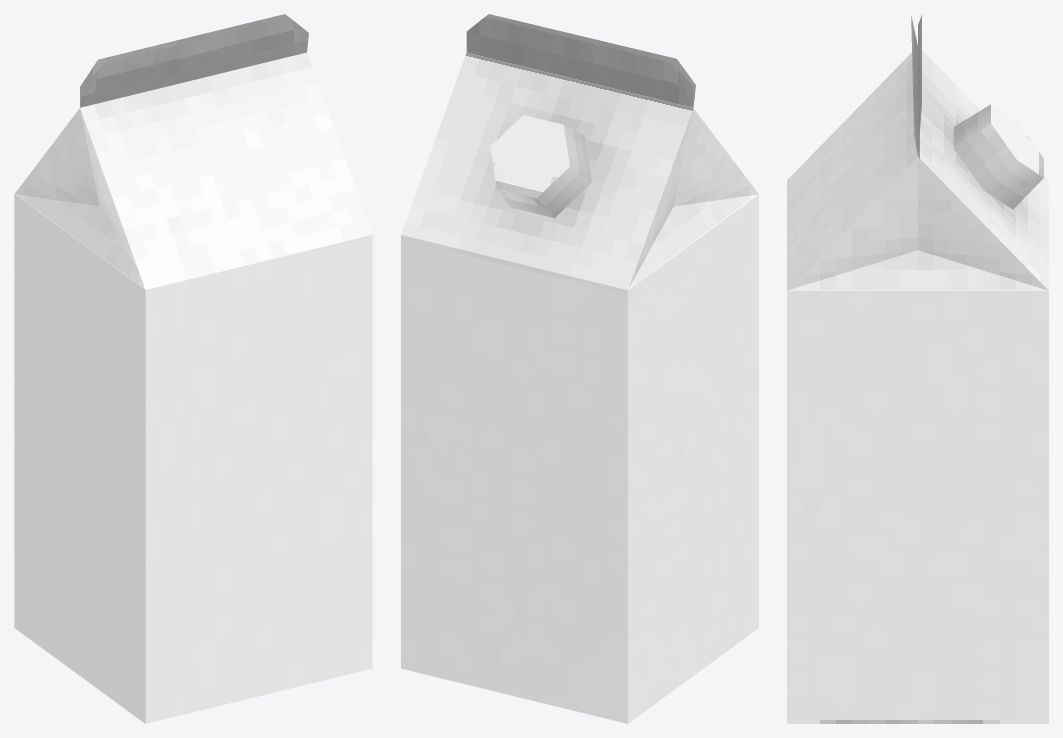
Rendered from Carton.glb.
3 renders of one model, left to right at view 1: azimuth 30°, elevation 25°; view 2: azimuth 150°, elevation 25°; view 3: azimuth 270°, elevation 25°, orthographic.
Parts seen in each view (by area): view 1: Carton; view 2: Carton, Carton.001; view 3: Carton, Carton.001.
Part boxes in pixels (x1,y1,x2,y2): Carton: [14, 14, 372, 723]; Carton: [401, 14, 758, 723]; Carton.001: [490, 115, 591, 218]; Carton: [787, 14, 1048, 723]; Carton.001: [953, 104, 1043, 209].
Size of the model in its own units: 0.1191 by 0.3059 by 0.1191.
Materials: 1 (1 with a texture image).
